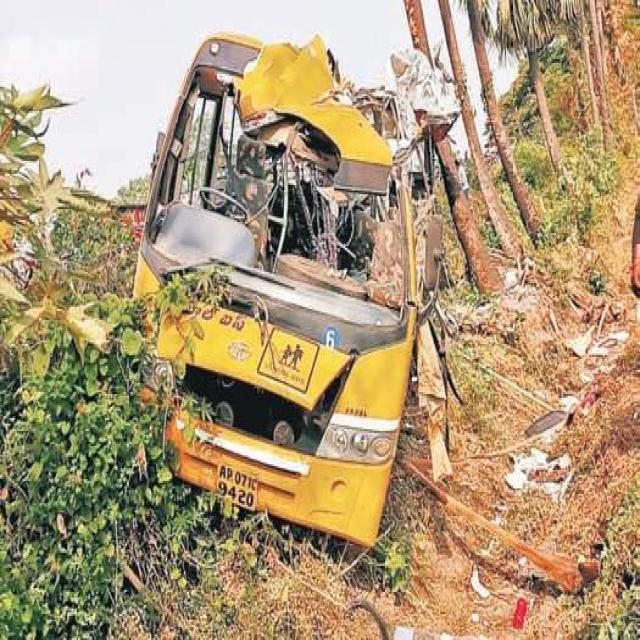accident: (134, 34, 440, 545)
